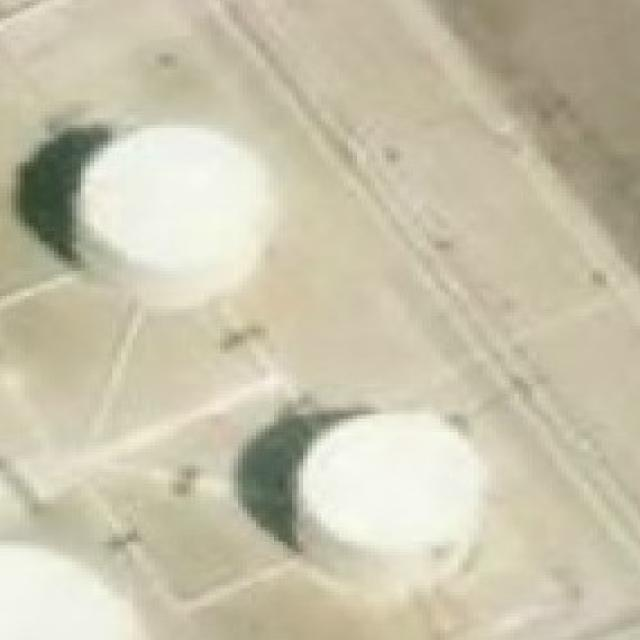Batiment: (79, 126, 277, 308), (301, 415, 481, 596), (2, 544, 142, 640)
